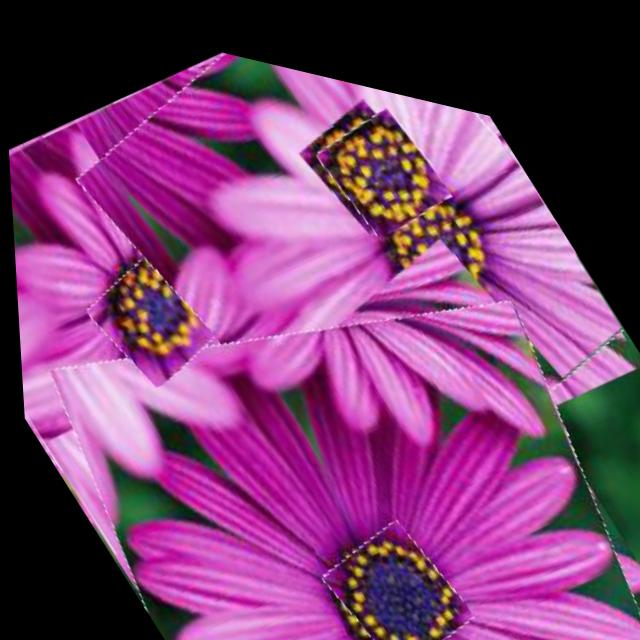Flower: (54, 10, 640, 589), (6, 119, 640, 640), (1, 22, 427, 621), (307, 482, 479, 640), (308, 71, 458, 239), (74, 233, 221, 401)
